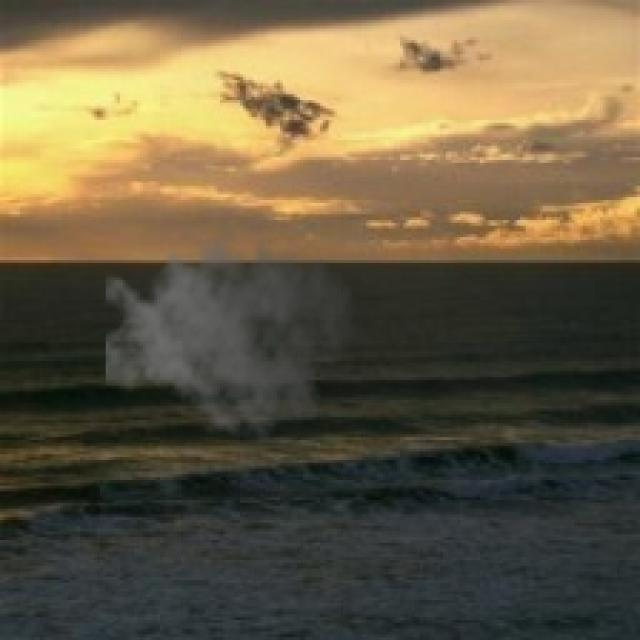Smoke: (106, 211, 357, 446)
